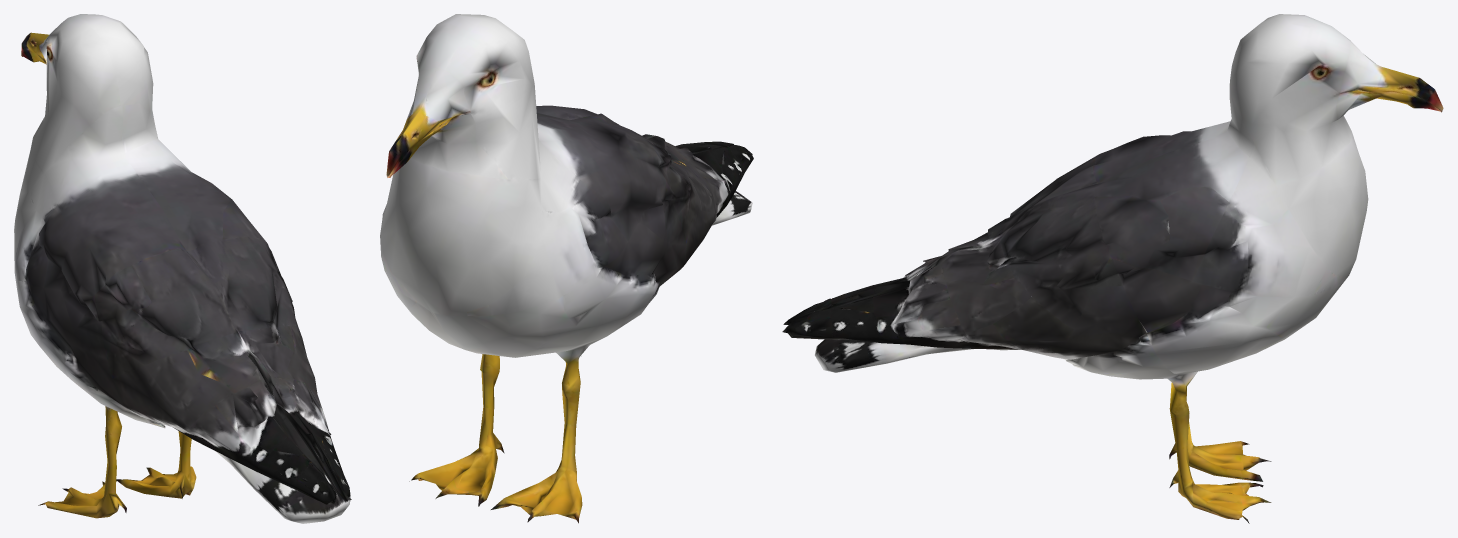
File: gull-low.glb
The picture shows the model from 3 angles, left to right: view 1: azimuth 30°, elevation 25°; view 2: azimuth 150°, elevation 25°; view 3: azimuth 270°, elevation 25°; orthographic projection. The views are drawn at different scales.
Parts seen in each view (by area): view 1: tripo_node_6db6bc4d-722d-494c-9df9-a40319262510; view 2: tripo_node_6db6bc4d-722d-494c-9df9-a40319262510; view 3: tripo_node_6db6bc4d-722d-494c-9df9-a40319262510.
Boxes of the visible parts, left/top/right/bottom form: tripo_node_6db6bc4d-722d-494c-9df9-a40319262510: left=14, top=14, right=351, bottom=523; tripo_node_6db6bc4d-722d-494c-9df9-a40319262510: left=380, top=14, right=753, bottom=523; tripo_node_6db6bc4d-722d-494c-9df9-a40319262510: left=782, top=14, right=1443, bottom=523.
Size of the model in its own units: 0.1778 by 0.374 by 0.4798.
1 material, 1 textured.
